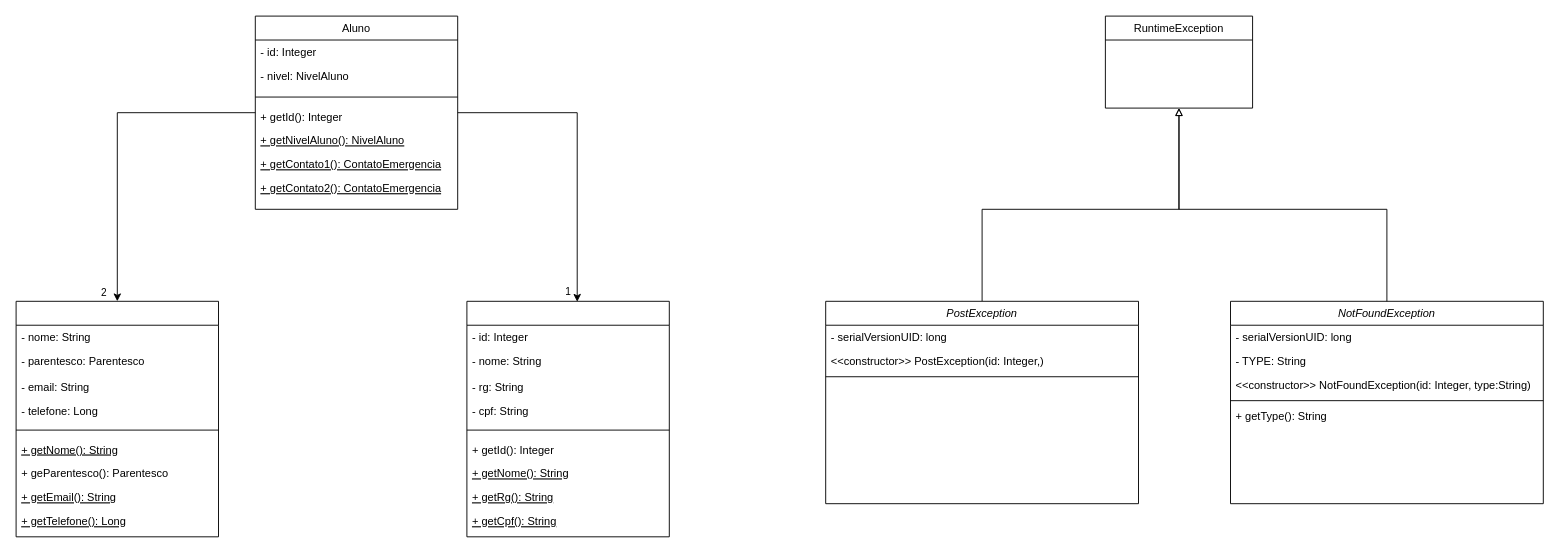
The diagram is 1559 pixels wide and 553 high, and some of its shapes have lost their labels. Each missing label, with the box of its shape:
ContatoEmergencia: (15, 300, 218, 537)
Pessoa: (466, 300, 669, 537)
